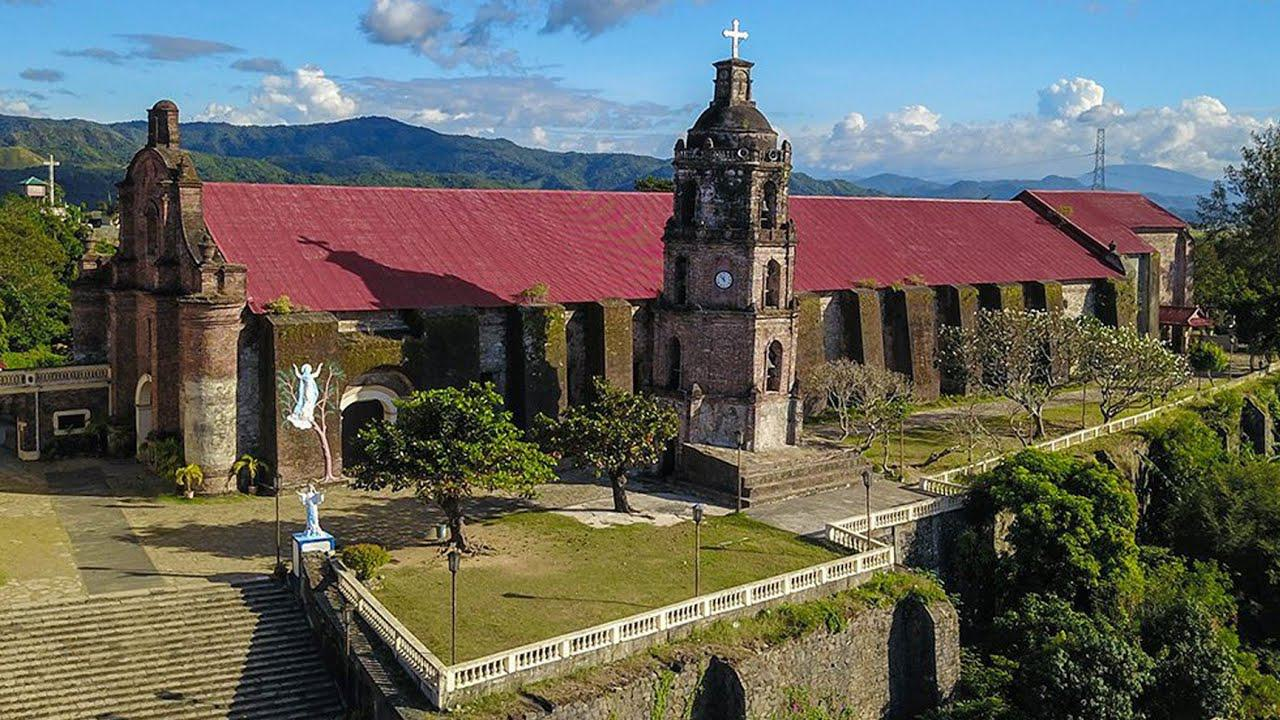Environmental Damage: (268, 296, 298, 322)
Sta. Maria Church: (77, 93, 240, 497)
Unfinished Paint: (173, 372, 238, 466)
